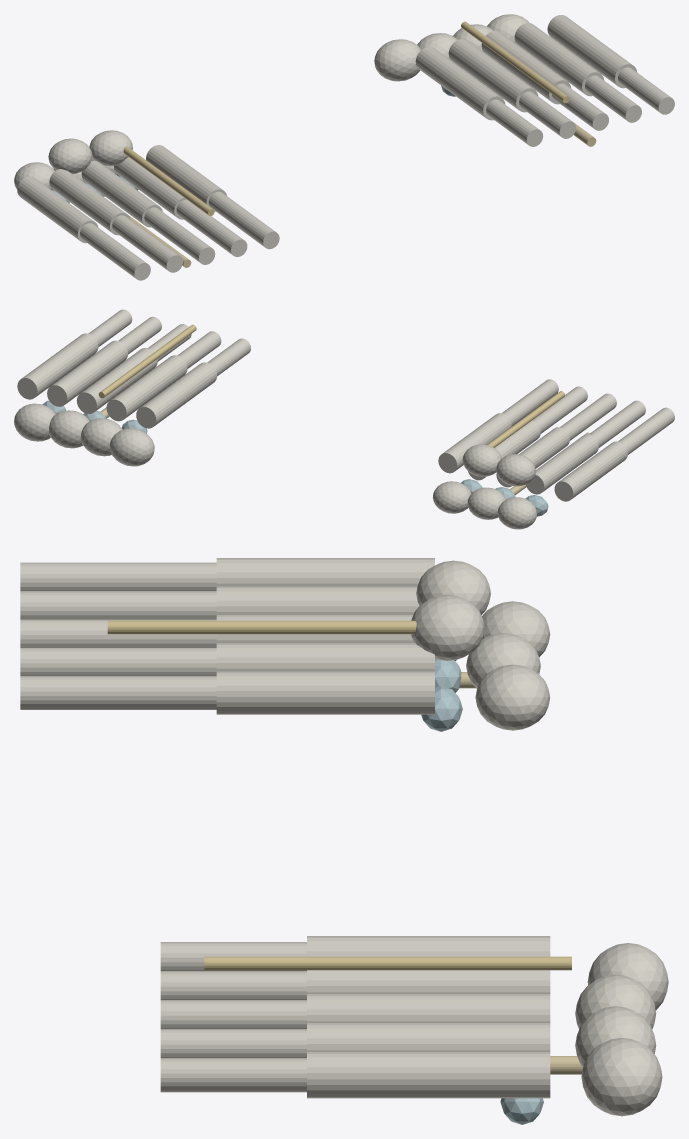
Rendered from hand-foot-high.glb.
3 views of the same model, one above another, from view 1: azimuth 30°, elevation 25°; view 2: azimuth 150°, elevation 25°; view 3: azimuth 270°, elevation 25° (orthographic). The views are drawn at different scales.
Parts seen in each view (by area): view 1: metatarsal_2, metatarsal_5, metatarsal_4, metatarsal_1, metacarpal_1, metacarpal_2, metacarpal_3, metatarsal_3, metacarpal_5, metacarpal_4, tarsal_1, hand_finger_3 (+16 smaller); view 2: metatarsal_5, metatarsal_2, metatarsal_1, metatarsal_4, metacarpal_1, metacarpal_2, metatarsal_3, metacarpal_5, tarsal_1, tarsal_4, tarsal_3, tarsal_2 (+19 smaller); view 3: metatarsal_5, metacarpal_5, metatarsal_3, metatarsal_4, hand_finger_5, metacarpal_4, metacarpal_1, metatarsal_2, metacarpal_2, hand_finger_1, hand_finger_2, hand_finger_4 (+21 smaller).
Part boxes in pixels (x1,y1,x2,y2): metatarsal_2: (448,39,538,112); metatarsal_5: (547,15,637,88); metatarsal_4: (514,23,604,96); metatarsal_1: (415,47,505,120); metacarpal_1: (17,176,98,243); metacarpal_2: (49,169,130,235); metacarpal_3: (81,160,162,227); metatarsal_3: (481,31,571,104); metacarpal_5: (146,145,226,211); metacarpal_4: (113,157,186,219); tarsal_1: (374,39,420,81); hand_finger_3: (144,207,215,264); metatarsal_5: (17,333,98,399); metatarsal_2: (106,355,187,421); metatarsal_1: (136,362,217,428); metatarsal_4: (47,340,127,406); metacarpal_1: (554,441,627,501); metacarpal_2: (526,434,598,494); metatarsal_3: (76,348,157,413); metacarpal_5: (438,413,511,473); tarsal_1: (109,428,154,466); tarsal_4: (14,403,55,441); tarsal_3: (49,410,89,448); tarsal_2: (80,418,122,456); metatarsal_5: (307,1052,550,1098); metacarpal_5: (216,671,434,714); metatarsal_3: (307,994,550,1022); metatarsal_4: (307,1023,550,1051); hand_finger_5: (20,676,216,709); metacarpal_4: (216,643,434,671); metacarpal_1: (216,558,434,586); metatarsal_2: (307,970,550,993); metacarpal_2: (216,586,419,614); hand_finger_1: (20,562,216,590); hand_finger_2: (20,591,216,619); hand_finger_4: (20,647,216,675).
Size of the model in its own units: 3.91 by 0.43 by 2.08.
